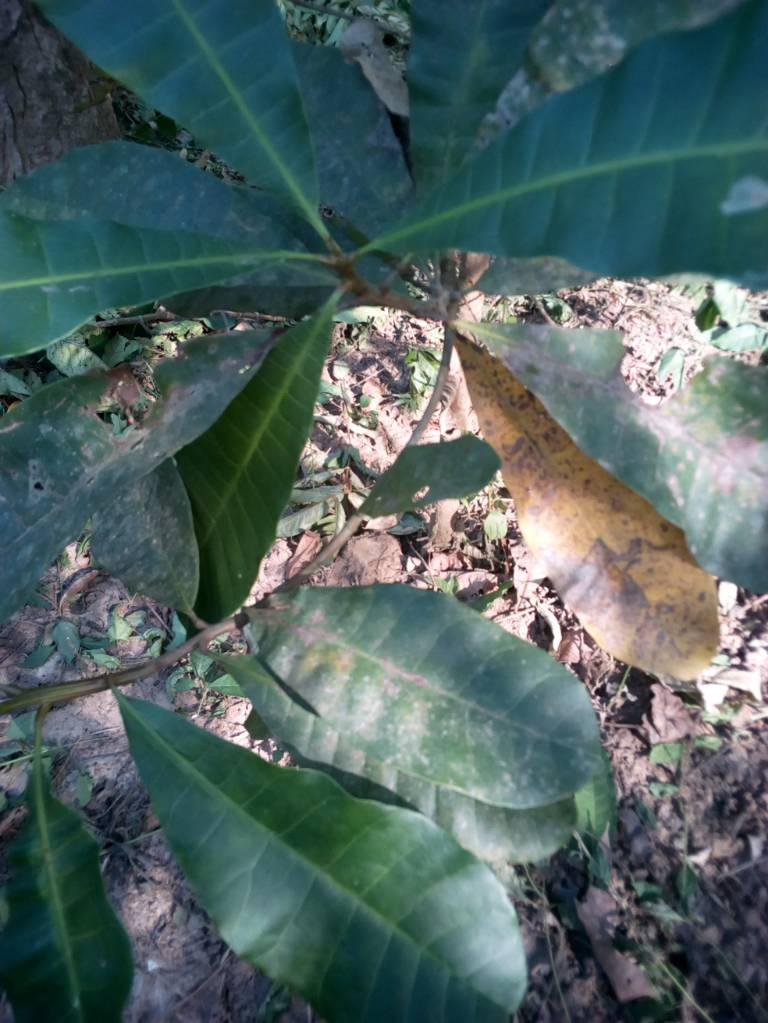Oïdium: (1, 119, 410, 353), (468, 313, 768, 611), (240, 576, 621, 809)
